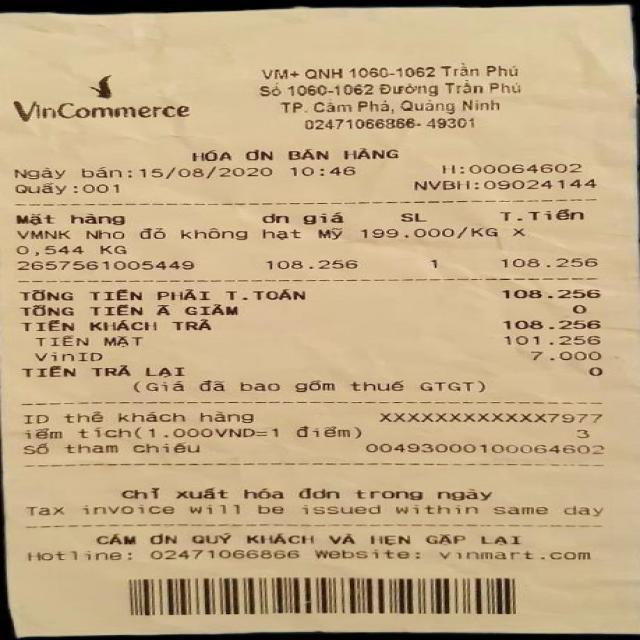Date: (135, 161, 280, 183)
Store_Name: (1, 68, 207, 133)
Total_Amount: (4, 278, 622, 306)
